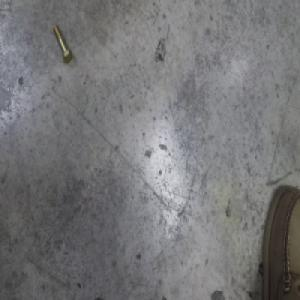Bolt: (52, 23, 73, 64)
